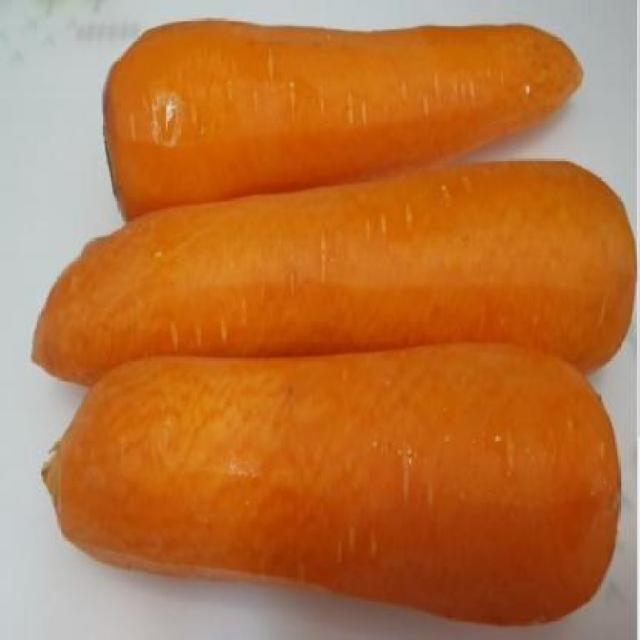carrot: (40, 337, 626, 636), (27, 151, 640, 397), (100, 8, 589, 227)
